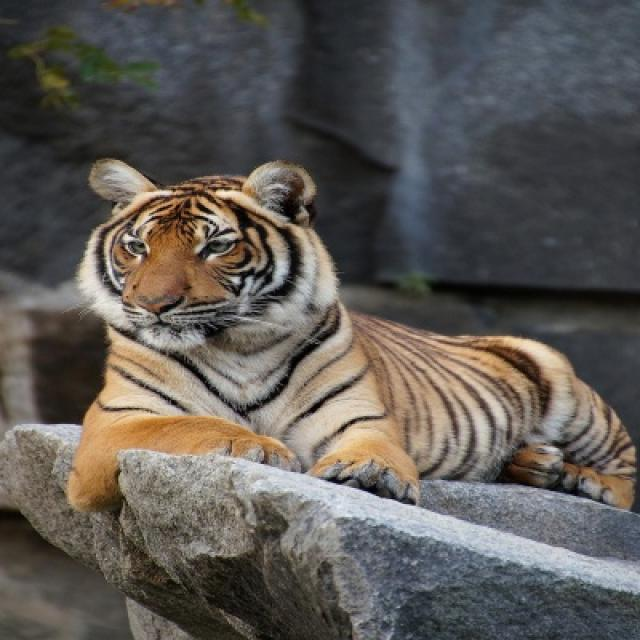Tiger: (59, 157, 638, 516)
